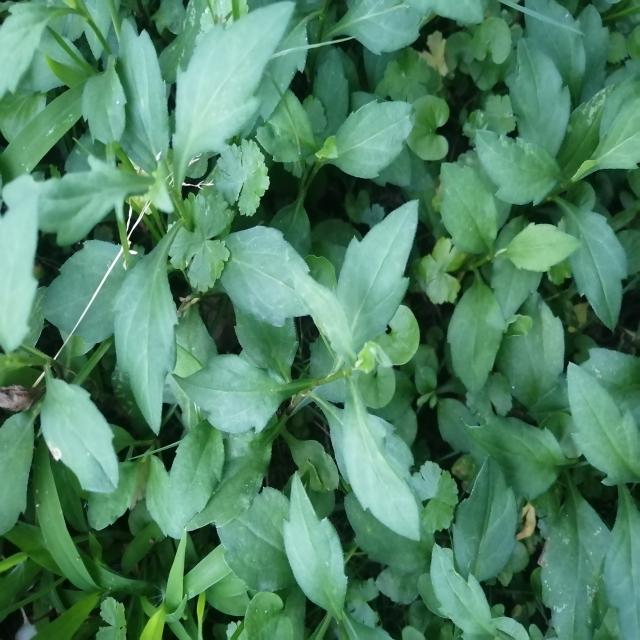Indian aster: (47, 24, 298, 396), (189, 213, 445, 527), (461, 54, 640, 344)
